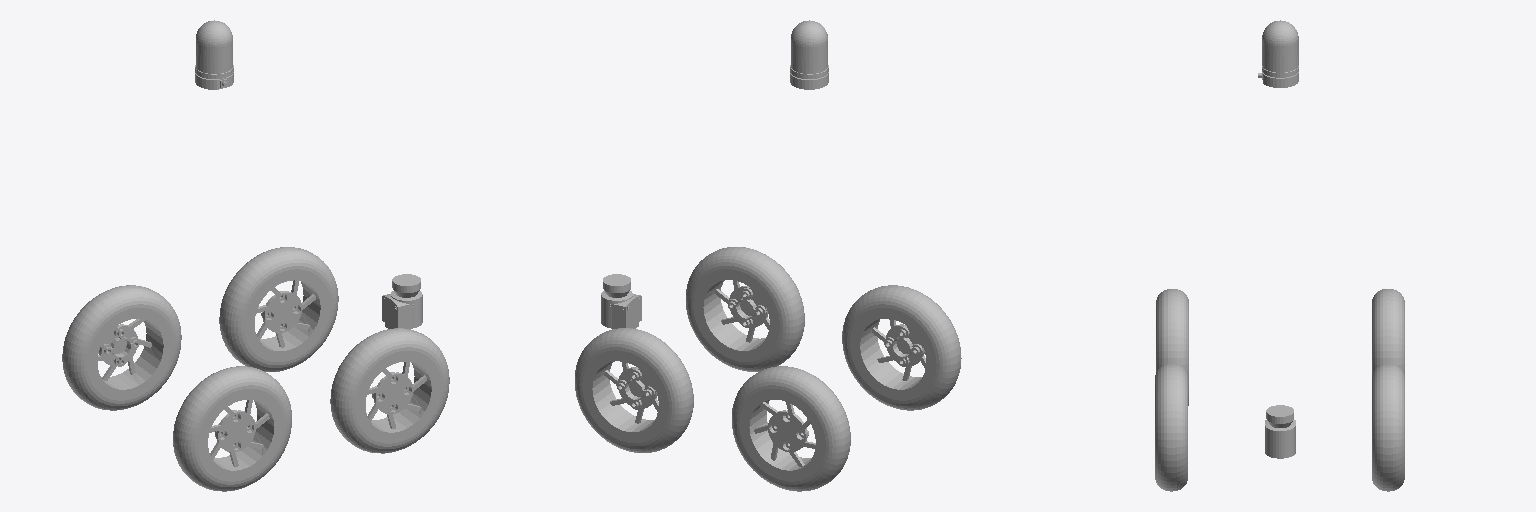
The robot description file, URDF, robot "af":
<robot
  name="af">

  <link
    name="base_footprint">
    <visual>
      <origin
        xyz="0 0 0.2984495120400078"
        rpy="1.5707963267949 0 1.5707963267949" />
      <geometry>
        <mesh
          filename="package://af_bringup/meshes/base_footprint.STL" />
      </geometry>
      <material
        name="">
        <color
          rgba="0.752941176470588 0.752941176470588 0.752941176470588 1" />
      </material>
    </visual>
  </link>


  <link
    name="base_link">
    <visual>
      <origin
        xyz="0 0 0"
        rpy="1.5707963267949 0 1.5707963267949" />
      <geometry>
        <mesh
          filename="package://af_bringup/meshes/base_footprint.STL" />
      </geometry>
      <material
        name="">
        <color
          rgba="0.752941176470588 0.752941176470588 0.752941176470588 1" />
      </material>
    </visual>
  </link>
  <joint
    name="base_link_joint"
    type="fixed">
    <origin
      xyz="0 0 0.2984495120400078"
      rpy="0 0 0" />
    <parent
      link="base_footprint" />
    <child
      link="base_link" />
    <axis
      xyz="0 0 0" />
  </joint>


  <link
    name="laser">
    <visual>
      <origin
        xyz="0 0 0"
        rpy="0 0 1.5707963267949" />
      <geometry>
        <mesh
          filename="package://af_bringup/meshes/laser.STL" />
      </geometry>
      <material
        name="">
        <color
          rgba="0.752941176470588 0.752941176470588 0.752941176470588 1" />
      </material>
    </visual>
  </link>
  <joint
    name="laser_joint"
    type="fixed">
    <origin
      xyz="0.63439 0 0.0959999999999999"
      rpy="0 0 0" />
    <parent
      link="base_link" />
    <child
      link="laser" />
    <axis
      xyz="0 0 0" />
  </joint>



  <link
    name="wheel1">
    <visual>
      <origin
        xyz="0 0 0"
        rpy="1.5707963267949 0 0" />
      <geometry>
        <mesh
          filename="package://af_bringup/meshes/wheel1.STL" />
      </geometry>
      <material
        name="">
        <color
          rgba="0.752941176470588 0.752941176470588 0.752941176470588 1" />
      </material>
    </visual>
  </link>
  <joint
    name="base_wheel1"
    type="fixed">
    <origin
      xyz="0.36689 0.353838628838196 -0.0884495120400078"
      rpy="0 0 0" />
    <parent
      link="base_link" />
    <child
      link="wheel1" />
    <axis
      xyz="0 0 0" />
  </joint>



  <link
    name="wheel2">
    <visual>
      <origin
        xyz="0 0 0"
        rpy="1.5707963267949 0 0" />
      <geometry>
        <mesh
          filename="package://af_bringup/meshes/wheel2.STL" />
      </geometry>
      <material
        name="">
        <color
          rgba="0.752941176470588 0.752941176470588 0.752941176470588 1" />
      </material>
    </visual>
  </link>
  <joint
    name="base_wheel2"
    type="fixed">
    <origin
      xyz="-0.21311 0.353805715763312 -0.0884495120400076"
      rpy="0 0 0" />
    <parent
      link="base_link" />
    <child
      link="wheel2" />
    <axis
      xyz="0 0 0" />
  </joint>



  <link
    name="wheel3">
    <visual>
      <origin
        xyz="0 0 0"
        rpy="-1.5707963267949 0 0" />
      <geometry>
        <mesh
          filename="package://af_bringup/meshes/wheel3.STL" />
      </geometry>
      <material
        name="">
        <color
          rgba="0.752941176470588 0.752941176470588 0.752941176470588 1" />
      </material>
    </visual>
  </link>
  <joint
    name="base_wheel3"
    type="fixed">
    <origin
      xyz="0.36689 -0.356514177677096 -0.0884495120400078"
      rpy="0 0 0" />
    <parent
      link="base_link" />
    <child
      link="wheel3" />
    <axis
      xyz="0 0 0" />
  </joint>



  <link
    name="wheel4">
    <visual>
      <origin
        xyz="0 0 0"
        rpy="-1.5707963267949 0 0" />
      <geometry>
        <mesh
          filename="package://af_bringup/meshes/wheel4.STL" />
      </geometry>
      <material
        name="">
        <color
          rgba="0.752941176470588 0.752941176470588 0.752941176470588 1" />
      </material>
    </visual>
  </link>
  <joint
    name="base_wheel4"
    type="fixed">
    <origin
      xyz="-0.21311 -0.353805715763312 -0.0884495120400078"
      rpy="0 0 0" />
    <parent
      link="base_link" />
    <child
      link="wheel4" />
    <axis
      xyz="0 0 0" />
  </joint>



  <link
    name="camera">
    <visual>
      <origin
        xyz="0 0 0"
        rpy="3.14159265358979 0 0" />
      <geometry>
        <mesh
          filename="package://af_bringup/meshes/camera.STL" />
      </geometry>
      <material
        name="">
        <color
          rgba="0.752941176470588 0.752941176470588 0.752941176470588 1" />
      </material>
    </visual>
  </link>
  <joint
    name="base_camera"
    type="fixed">
    <origin
      xyz="-0.07611 0 0.962"
      rpy="0 0 0" />
    <parent
      link="base_link" />
    <child
      link="camera" />
    <axis
      xyz="0 0 0" />
  </joint>
</robot>

--- Render facts (derived) ---
3 views of the same robot in one strip: view 1: azimuth 30°, elevation 25°; view 2: azimuth 150°, elevation 25°; view 3: azimuth 270°, elevation 25° (orthographic).
Model af with 8 links and 7 joints (7 fixed), rooted at base_footprint, posed all joints at 0.
Visible links, largest first — view 1: wheel2, wheel3, wheel4, wheel1, camera, laser; view 2: wheel4, wheel1, wheel2, wheel3, camera, laser; view 3: wheel1, wheel3, wheel4, wheel2, camera, laser.
Link boxes in pixels (x1,y1,x2,y2): wheel2: (62, 285, 181, 410); wheel3: (330, 328, 449, 453); wheel4: (173, 366, 291, 491); wheel1: (219, 247, 338, 371); camera: (195, 20, 233, 89); laser: (382, 274, 422, 328); wheel4: (842, 285, 961, 410); wheel1: (575, 328, 693, 452); wheel2: (732, 366, 850, 491); wheel3: (686, 247, 804, 371); camera: (790, 20, 828, 89); laser: (601, 274, 641, 328); wheel1: (1372, 364, 1404, 491); wheel3: (1155, 364, 1187, 491); wheel4: (1156, 289, 1188, 405); wheel2: (1372, 289, 1404, 374); camera: (1258, 20, 1298, 87); laser: (1265, 405, 1295, 458).
Bounding box of the posed robot: 1.11 × 0.8204 × 1.47 m (x, y, z).
Meshes: 7 distinct files referenced, 6 mesh visuals loaded (6 binary STL); not drawn: 2 (reference not matched to a file when rendering).